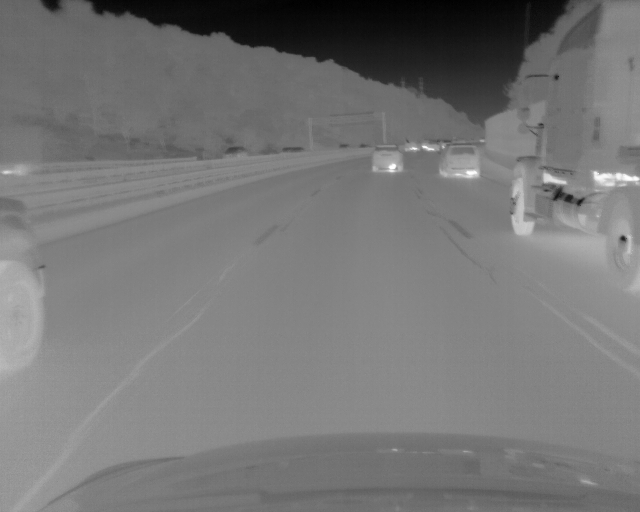car: (509, 3, 640, 275), (1, 191, 55, 370), (438, 145, 479, 178), (371, 144, 404, 173), (221, 146, 247, 157), (282, 145, 305, 154), (401, 141, 418, 153), (428, 141, 437, 153)
